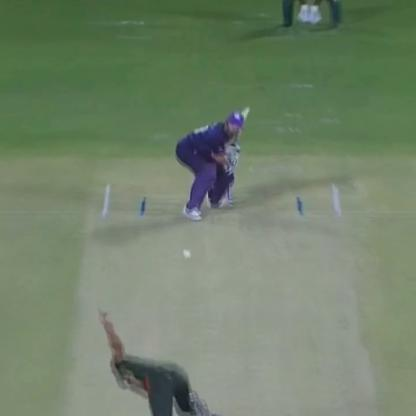ball: (181, 247, 193, 258)
pitch: (52, 180, 356, 415)
